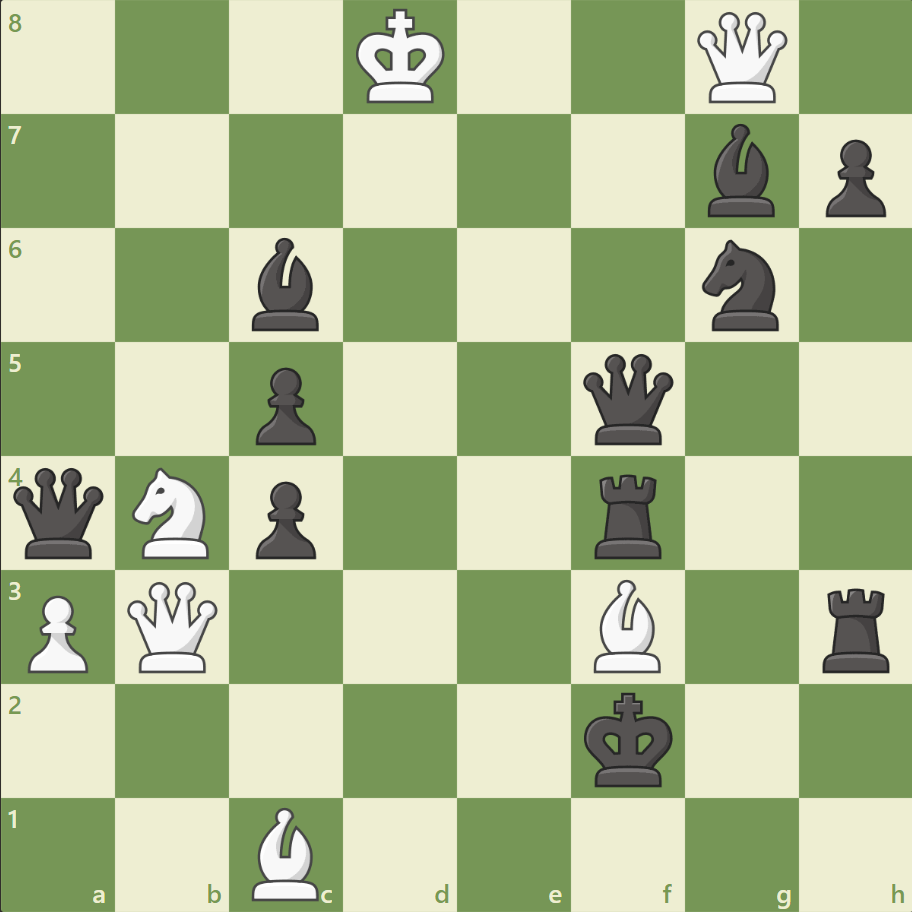B: (244, 801, 328, 904), (585, 574, 669, 676)
K: (351, 4, 451, 112)
N: (124, 461, 222, 564)
P: (20, 586, 95, 677)
Q: (124, 576, 223, 676), (691, 9, 790, 108)
b: (244, 233, 328, 336), (698, 120, 782, 222)
k: (579, 685, 679, 793)
n: (692, 234, 789, 337)
p: (247, 359, 322, 450), (247, 473, 322, 564), (815, 132, 889, 223)
q: (578, 349, 677, 449), (10, 463, 109, 562)
r: (587, 466, 670, 563), (814, 579, 897, 676)
